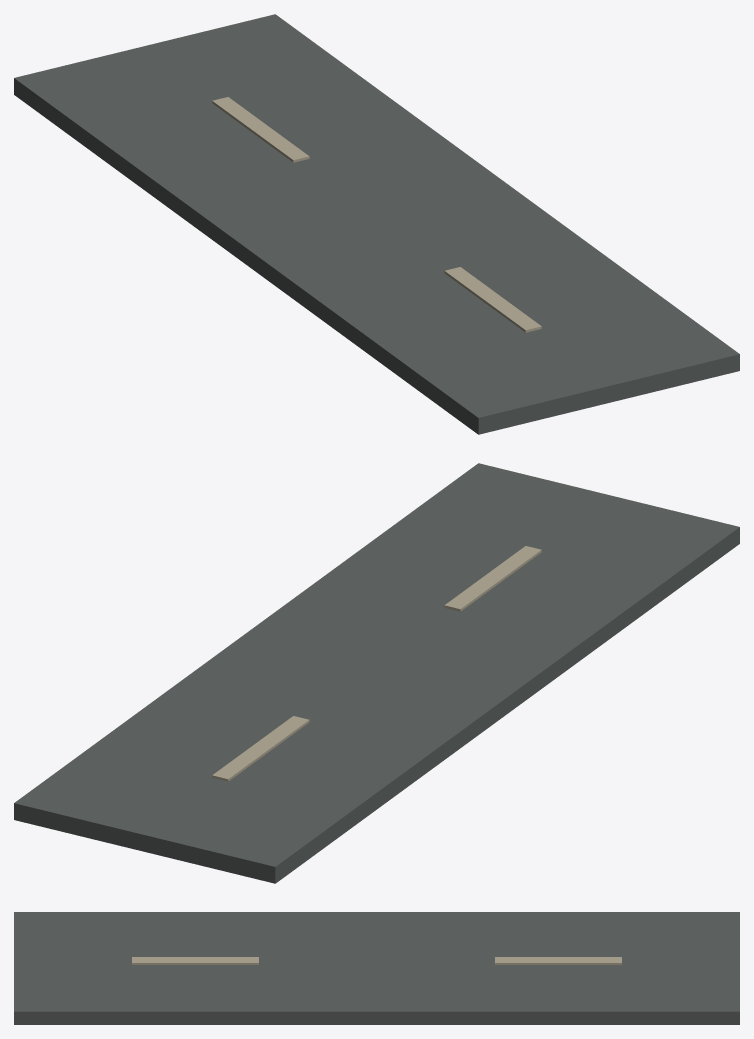
Rendered from road-straight.glb.
The picture shows the model from 3 angles, top to bottom: view 1: azimuth 30°, elevation 25°; view 2: azimuth 150°, elevation 25°; view 3: azimuth 270°, elevation 25°; orthographic projection. The views are drawn at different scales.
Parts seen in each view (by area): view 1: road-straight-0, road-straight-2, road-straight-1; view 2: road-straight-0, road-straight-1, road-straight-2; view 3: road-straight-0, road-straight-1, road-straight-2.
Boxes of the visible parts, <box> form: road-straight-0: <box>14,14,739,434</box>; road-straight-2: <box>444,267,541,332</box>; road-straight-1: <box>212,97,309,162</box>; road-straight-0: <box>14,463,739,883</box>; road-straight-1: <box>212,716,309,781</box>; road-straight-2: <box>444,546,541,611</box>; road-straight-0: <box>14,912,739,1024</box>; road-straight-1: <box>495,957,621,964</box>; road-straight-2: <box>132,957,258,964</box>.
Bounding box in the file's own units: 1.3 × 0.092 × 4.
